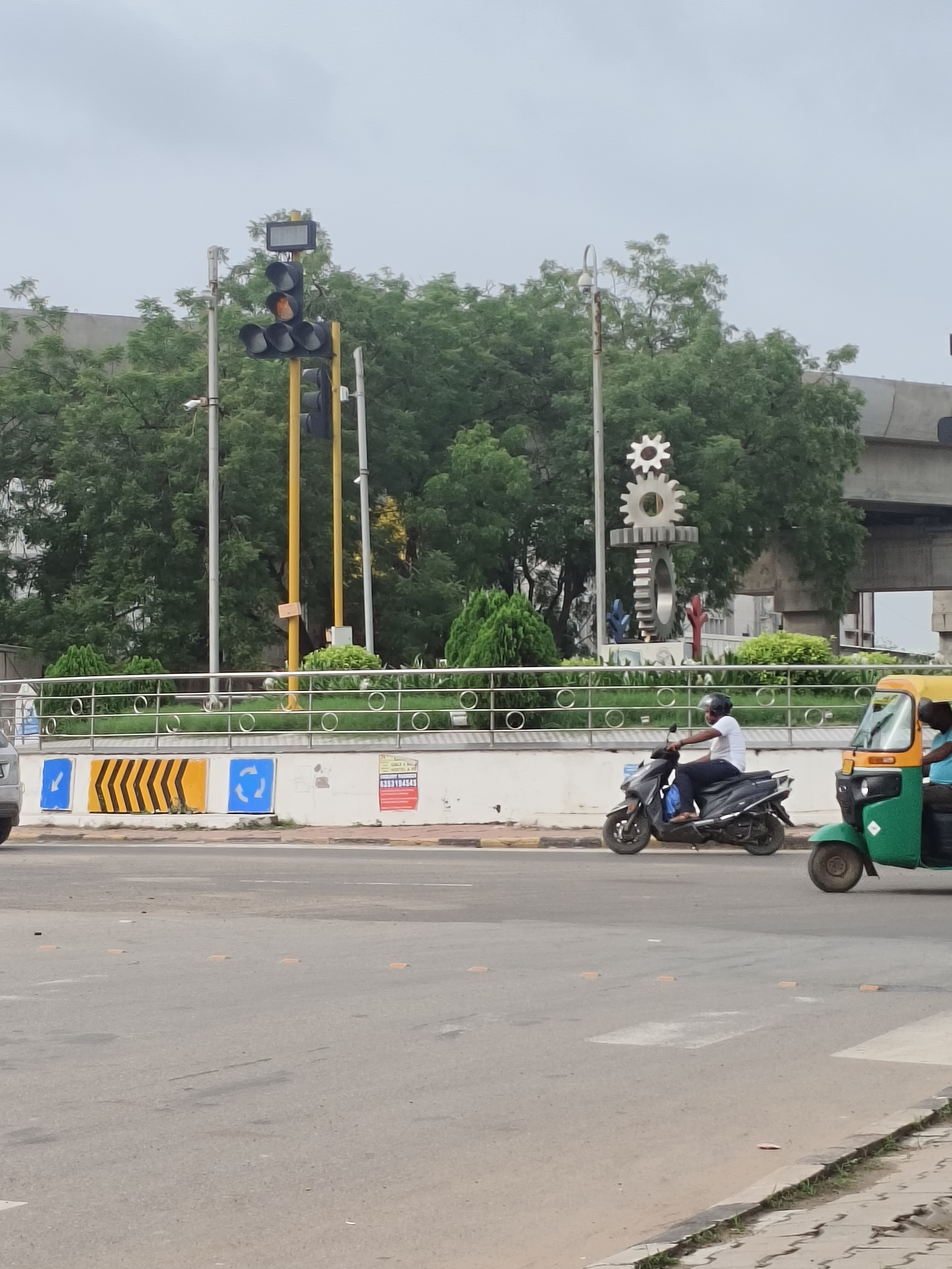BikeWithRider: (593, 688, 803, 863)
Helmet: (696, 689, 736, 727)
